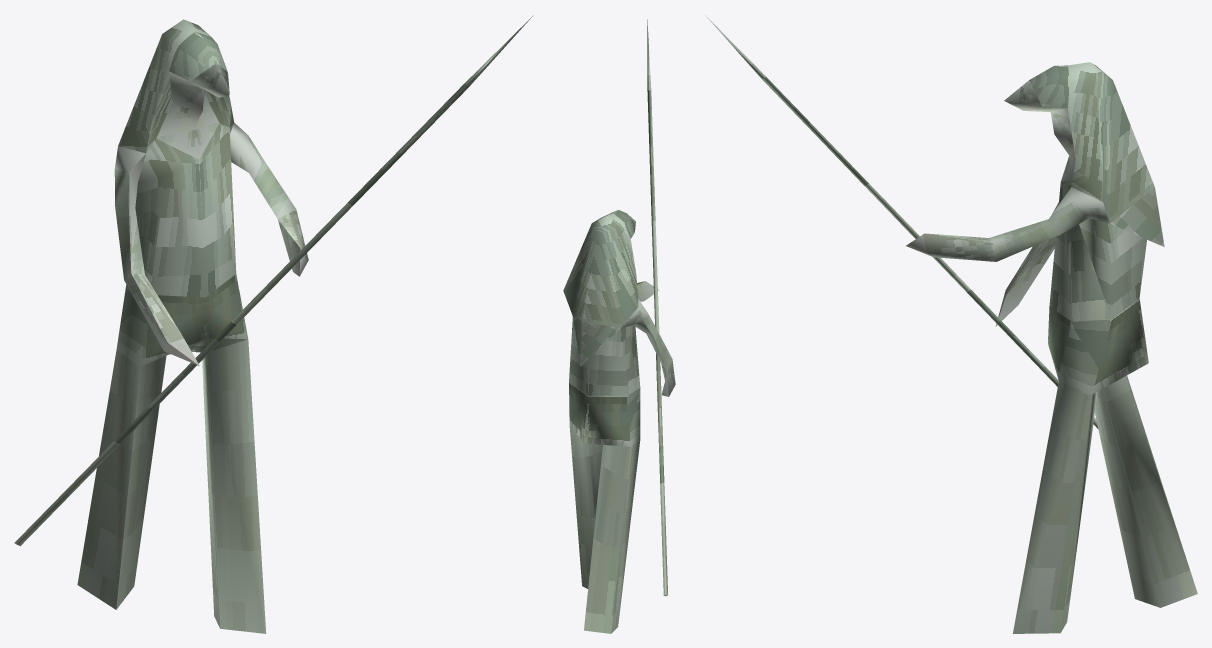
File: thm_nboo_gungan_statue_s02_l3.fbx
The picture shows the model from 3 angles, left to right: view 1: azimuth 30°, elevation 25°; view 2: azimuth 150°, elevation 25°; view 3: azimuth 270°, elevation 25°; orthographic projection. The views are drawn at different scales.
Visible parts, largest first — view 1: mesh_node; view 2: mesh_node; view 3: mesh_node.
Part boxes in pixels (<box>): mesh_node: <box>14,15,533,633</box>; mesh_node: <box>563,19,675,633</box>; mesh_node: <box>705,15,1197,633</box>.
Size of the model in its own units: 1.78 by 4.43 by 2.96.
Materials: 1 (1 with a texture image).
